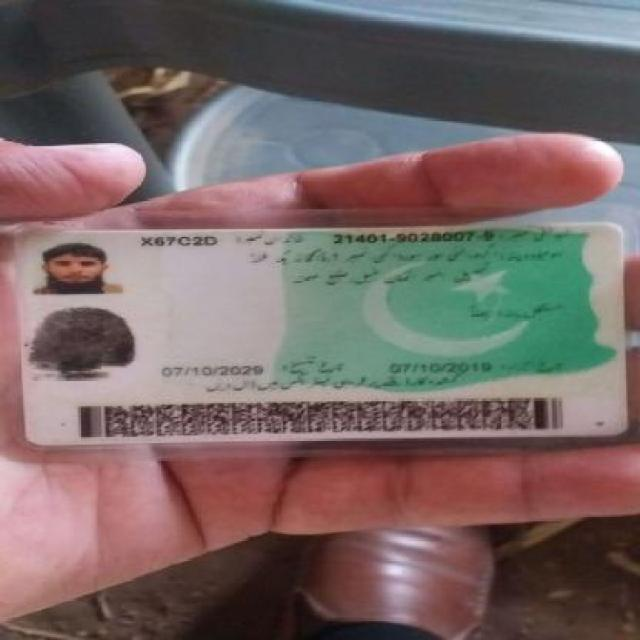Back: (6, 220, 632, 440)
